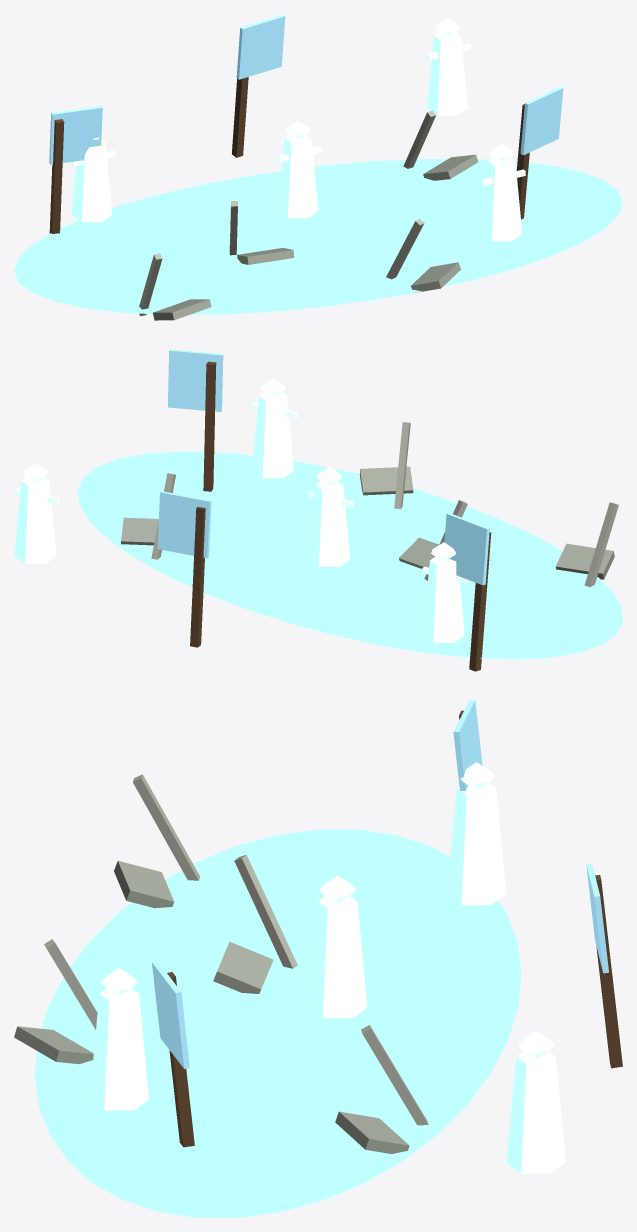
Rendered from memory_wastes_echo_battlefield_props.glb.
The picture shows the model from 3 angles, top to bottom: view 1: azimuth 30°, elevation 25°; view 2: azimuth 150°, elevation 25°; view 3: azimuth 270°, elevation 25°; orthographic projection. The views are drawn at different scales.
Parts seen in each view (by area): view 1: PREFAB_memory_wastes_echo_battlefield_props_00_WASTE_EchoBat, PREFAB_memory_wastes_echo_battlefield_props_15_WASTE_EchoBat, PREFAB_memory_wastes_echo_battlefield_props_18_WASTE_EchoBat, PREFAB_memory_wastes_echo_battlefield_props_24_WASTE_EchoBat, PREFAB_memory_wastes_echo_battlefield_props_21_WASTE_EchoBat, PREFAB_memory_wastes_echo_battlefield_props_04_WASTE_EchoBat, PREFAB_memory_wastes_echo_battlefield_props_02_WASTE_EchoBat, PREFAB_memory_wastes_echo_battlefield_props_06_WASTE_EchoBat, PREFAB_memory_wastes_echo_battlefield_props_01_WASTE_EchoBat, PREFAB_memory_wastes_echo_battlefield_props_03_WASTE_EchoBat, PREFAB_memory_wastes_echo_battlefield_props_10_WASTE_EchoBat, PREFAB_memory_wastes_echo_battlefield_props_12_WASTE_EchoBat (+6 smaller); view 2: PREFAB_memory_wastes_echo_battlefield_props_00_WASTE_EchoBat, PREFAB_memory_wastes_echo_battlefield_props_18_WASTE_EchoBat, PREFAB_memory_wastes_echo_battlefield_props_24_WASTE_EchoBat, PREFAB_memory_wastes_echo_battlefield_props_15_WASTE_EchoBat, PREFAB_memory_wastes_echo_battlefield_props_21_WASTE_EchoBat, PREFAB_memory_wastes_echo_battlefield_props_06_WASTE_EchoBat, PREFAB_memory_wastes_echo_battlefield_props_04_WASTE_EchoBat, PREFAB_memory_wastes_echo_battlefield_props_02_WASTE_EchoBat, PREFAB_memory_wastes_echo_battlefield_props_03_WASTE_EchoBat, PREFAB_memory_wastes_echo_battlefield_props_05_WASTE_EchoBat, PREFAB_memory_wastes_echo_battlefield_props_01_WASTE_EchoBat, PREFAB_memory_wastes_echo_battlefield_props_10_WASTE_EchoBat (+5 smaller); view 3: PREFAB_memory_wastes_echo_battlefield_props_00_WASTE_EchoBat, PREFAB_memory_wastes_echo_battlefield_props_15_WASTE_EchoBat, PREFAB_memory_wastes_echo_battlefield_props_24_WASTE_EchoBat, PREFAB_memory_wastes_echo_battlefield_props_18_WASTE_EchoBat, PREFAB_memory_wastes_echo_battlefield_props_21_WASTE_EchoBat, PREFAB_memory_wastes_echo_battlefield_props_06_WASTE_EchoBat, PREFAB_memory_wastes_echo_battlefield_props_08_WASTE_EchoBat, PREFAB_memory_wastes_echo_battlefield_props_14_WASTE_EchoBat, PREFAB_memory_wastes_echo_battlefield_props_12_WASTE_EchoBat, PREFAB_memory_wastes_echo_battlefield_props_07_WASTE_EchoBat, PREFAB_memory_wastes_echo_battlefield_props_03_WASTE_EchoBat, PREFAB_memory_wastes_echo_battlefield_props_10_WASTE_EchoBat (+6 smaller).
Boxes of the visible parts, box(x1,y1,x2,y2) form: PREFAB_memory_wastes_echo_battlefield_props_00_WASTE_EchoBat: box(14, 159, 622, 314); PREFAB_memory_wastes_echo_battlefield_props_15_WASTE_EchoBat: box(278, 134, 318, 218); PREFAB_memory_wastes_echo_battlefield_props_18_WASTE_EchoBat: box(481, 157, 522, 241); PREFAB_memory_wastes_echo_battlefield_props_24_WASTE_EchoBat: box(427, 32, 467, 115); PREFAB_memory_wastes_echo_battlefield_props_21_WASTE_EchoBat: box(71, 139, 112, 222); PREFAB_memory_wastes_echo_battlefield_props_04_WASTE_EchoBat: box(236, 14, 285, 79); PREFAB_memory_wastes_echo_battlefield_props_02_WASTE_EchoBat: box(49, 106, 102, 164); PREFAB_memory_wastes_echo_battlefield_props_06_WASTE_EchoBat: box(520, 86, 563, 155); PREFAB_memory_wastes_echo_battlefield_props_01_WASTE_EchoBat: box(49, 119, 64, 233); PREFAB_memory_wastes_echo_battlefield_props_03_WASTE_EchoBat: box(232, 77, 248, 157); PREFAB_memory_wastes_echo_battlefield_props_10_WASTE_EchoBat: box(411, 262, 460, 293); PREFAB_memory_wastes_echo_battlefield_props_12_WASTE_EchoBat: box(423, 154, 478, 180); PREFAB_memory_wastes_echo_battlefield_props_00_WASTE_EchoBat: box(77, 451, 622, 659); PREFAB_memory_wastes_echo_battlefield_props_18_WASTE_EchoBat: box(252, 392, 293, 478); PREFAB_memory_wastes_echo_battlefield_props_24_WASTE_EchoBat: box(14, 477, 56, 563); PREFAB_memory_wastes_echo_battlefield_props_15_WASTE_EchoBat: box(308, 481, 350, 566); PREFAB_memory_wastes_echo_battlefield_props_21_WASTE_EchoBat: box(423, 556, 464, 642); PREFAB_memory_wastes_echo_battlefield_props_06_WASTE_EchoBat: box(168, 349, 223, 412); PREFAB_memory_wastes_echo_battlefield_props_04_WASTE_EchoBat: box(157, 491, 211, 558); PREFAB_memory_wastes_echo_battlefield_props_02_WASTE_EchoBat: box(444, 513, 489, 585); PREFAB_memory_wastes_echo_battlefield_props_03_WASTE_EchoBat: box(190, 506, 205, 647); PREFAB_memory_wastes_echo_battlefield_props_05_WASTE_EchoBat: box(203, 361, 216, 491); PREFAB_memory_wastes_echo_battlefield_props_01_WASTE_EchoBat: box(469, 532, 491, 671); PREFAB_memory_wastes_echo_battlefield_props_10_WASTE_EchoBat: box(359, 466, 413, 495); PREFAB_memory_wastes_echo_battlefield_props_00_WASTE_EchoBat: box(34, 829, 521, 1217); PREFAB_memory_wastes_echo_battlefield_props_15_WASTE_EchoBat: box(308, 896, 367, 1018); PREFAB_memory_wastes_echo_battlefield_props_24_WASTE_EchoBat: box(506, 1051, 565, 1173); PREFAB_memory_wastes_echo_battlefield_props_18_WASTE_EchoBat: box(89, 988, 148, 1110); PREFAB_memory_wastes_echo_battlefield_props_21_WASTE_EchoBat: box(447, 783, 506, 905); PREFAB_memory_wastes_echo_battlefield_props_06_WASTE_EchoBat: box(152, 961, 189, 1068); PREFAB_memory_wastes_echo_battlefield_props_08_WASTE_EchoBat: box(213, 941, 273, 993); PREFAB_memory_wastes_echo_battlefield_props_14_WASTE_EchoBat: box(114, 861, 174, 908); PREFAB_memory_wastes_echo_battlefield_props_12_WASTE_EchoBat: box(335, 1111, 409, 1153); PREFAB_memory_wastes_echo_battlefield_props_07_WASTE_EchoBat: box(234, 855, 297, 968); PREFAB_memory_wastes_echo_battlefield_props_03_WASTE_EchoBat: box(595, 875, 622, 1068); PREFAB_memory_wastes_echo_battlefield_props_10_WASTE_EchoBat: box(14, 1026, 93, 1064).
Bounding box in the file's own units: 9.26 × 2.2 × 6.14.
